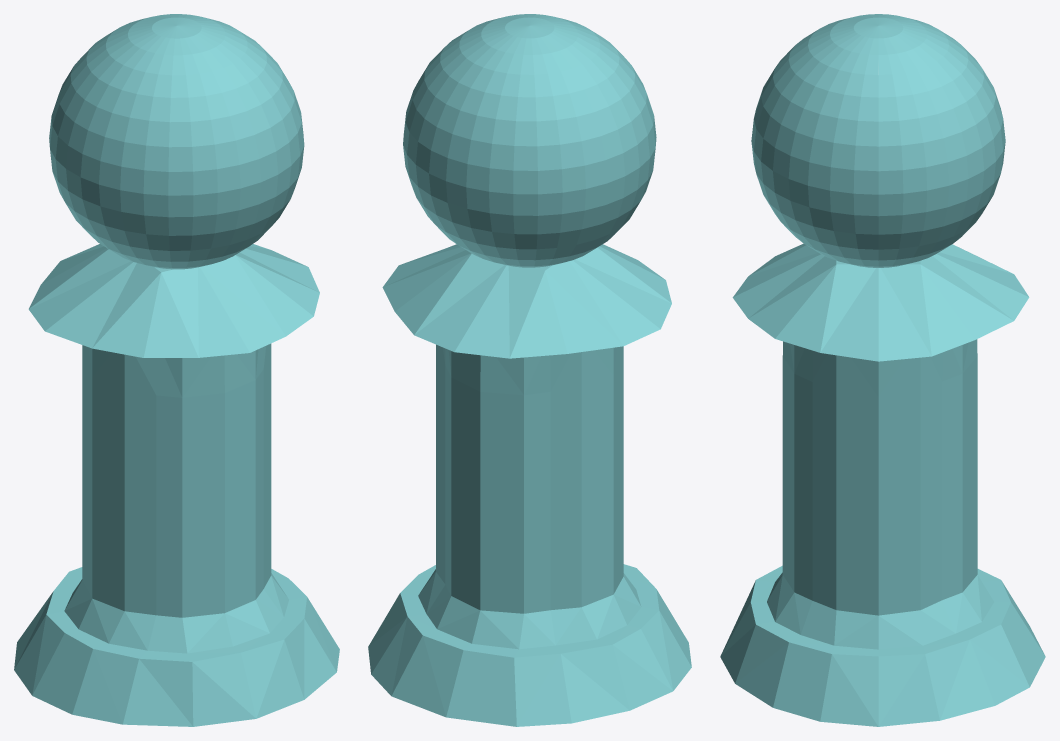
Rendered from Player.obj.
3 renders of one model, left to right at view 1: azimuth 30°, elevation 25°; view 2: azimuth 150°, elevation 25°; view 3: azimuth 270°, elevation 25°, orthographic.
Parts seen in each view (by area): view 1: 立方体; view 2: 立方体; view 3: 立方体.
Part boxes in pixels (x1,y1,x2,y2): 立方体: (14, 14, 339, 726); 立方体: (368, 14, 691, 726); 立方体: (720, 14, 1045, 726).
Size of the model in its own units: 2.33 by 4.88 by 2.28.
1 material, 1 textured.
